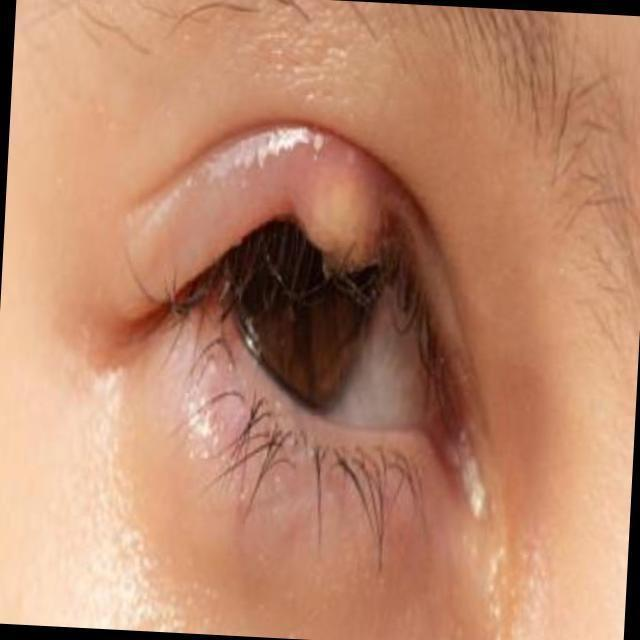Stye: (178, 96, 446, 314)
